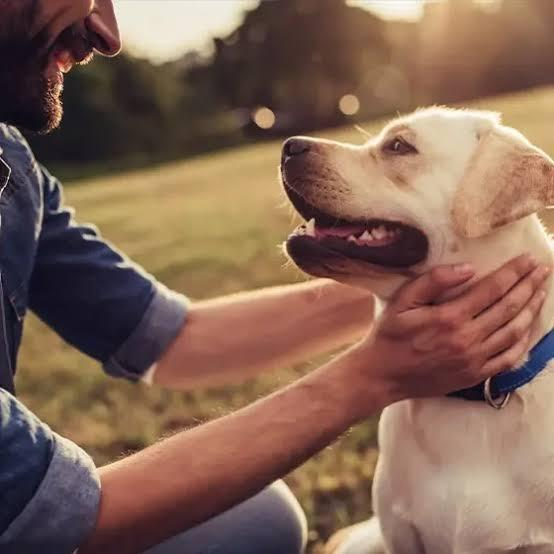adult_dog: (279, 108, 554, 554)
non-dog: (0, 0, 549, 554)
